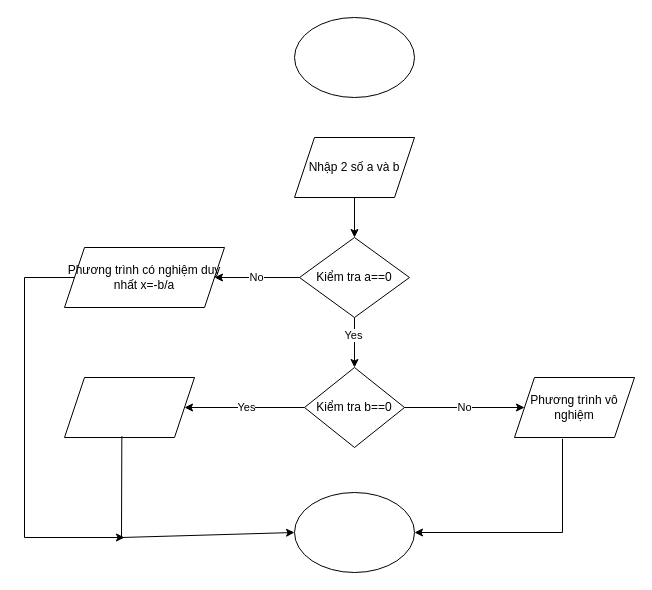
Some shapes in this 652 by 590 pixel diagram are drawn without their labels. The shapes that lost their labels are listed below. From the top down, each one's centre as x and y in pixels, then its label:
point 354,57: Start
point 129,407: Phương trình vô số nghiệm
point 354,532: End
